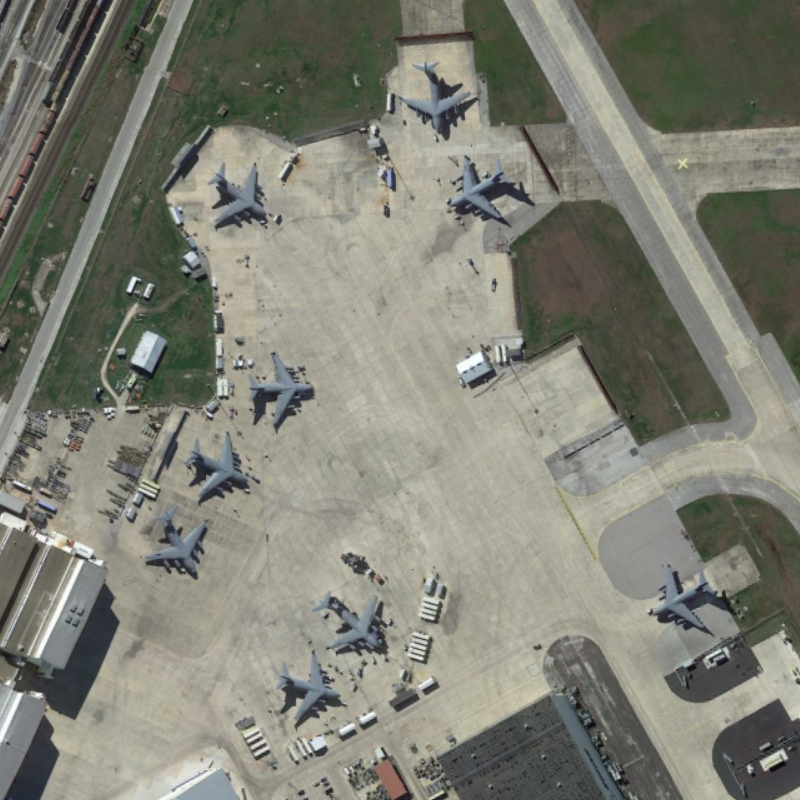A3: (133, 497, 216, 588), (392, 55, 479, 139), (238, 346, 321, 434), (307, 584, 393, 661), (272, 646, 349, 731), (643, 561, 726, 639), (181, 426, 260, 505), (203, 155, 280, 235), (445, 152, 520, 228)
